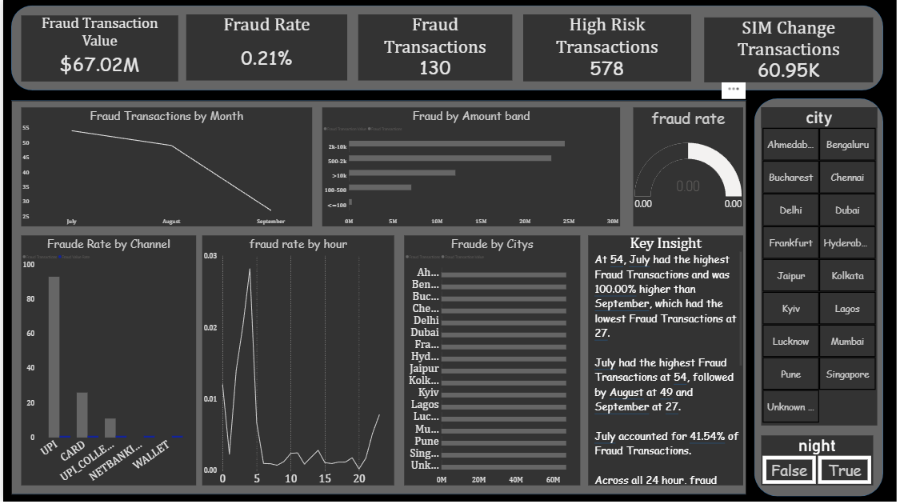

The dashboard page shown, as its layout file describes it:
{"tool":"powerbi","page":{"name":"Fraud & Risk Monitoring","canvas":[2800,1800],"ordinal":1},"visuals":[{"type":"shape","box":[30,26.7,2740,303.3],"z":0},{"type":"shape","box":[30.3,363.6,2245.5,1409.1],"z":1000},{"type":"lineChart","fields":{"Category":["digital_payments_analytics payment_transactions.date.Variation.Date Hierarchy.Month"],"Y":["digital_payments_analytics payment_transactions.Fraud Transactions"]},"box":[64,388,688,552],"z":2000},{"type":"shape","box":[2310,363.3,460,1423.3],"z":3000},{"type":"card","title":"Fraud Transaction Value","fields":{"Values":["digital_payments_analytics payment_transactions.Fraud Transaction Value"]},"box":[65.8,60.5,494.7,236.8],"z":4000},{"type":"card","title":"SIM Change Transactions","fields":{"Values":["CountNonNull(digital_payments_analytics payment_transactions.sim_change_2h)"]},"box":[2250,63.3,466.7,233.3],"z":9000},{"type":"card","title":"Fraud  Rate","fields":{"Values":["digital_payments_analytics payment_transactions.fraud rate"]},"box":[586.7,63.3,516.7,236.7],"z":10000},{"type":"card","title":"High Risk Transactions","fields":{"Values":["digital_payments_analytics payment_transactions.High Value Transactions"]},"box":[1693.3,60,510,240],"z":11000},{"type":"lineChart","fields":{"Category":["digital_payments_analytics payment_transactions.hour"],"Y":["digital_payments_analytics payment_transactions.fraud rate"]},"box":[1568,848,684,892],"z":12000},{"type":"clusteredColumnChart","title":"Fraude Rate by Channel","fields":{"Category":["digital_payments_analytics payment_transactions.channel"],"Y":["digital_payments_analytics payment_transactions.Fraud Transactions","digital_payments_analytics payment_transactions.Fraud Value Rate"]},"box":[64,972,688,768],"z":13000},{"type":"gauge","fields":{"Y":["digital_payments_analytics payment_transactions.fraud rate"]},"box":[1828,388,424,428],"z":14000},{"type":"clusteredBarChart","title":"Fraude by Citys","fields":{"Category":["Q16_Customer_City_Spend.city"],"Y":["digital_payments_analytics payment_transactions.Fraud Transactions","digital_payments_analytics payment_transactions.Fraud Transaction Value"]},"box":[772,848,760,892],"z":15000},{"type":"clusteredBarChart","title":"Fraud by Amount band","fields":{"Category":["digital_payments_analytics payment_transactions.amount_band"],"Y":["digital_payments_analytics payment_transactions.Fraud Transaction Value","digital_payments_analytics payment_transactions.Fraud Transactions"]},"box":[772,388,1012,428],"z":16000},{"type":"card","title":"Fraud Transactions","fields":{"Values":["digital_payments_analytics payment_transactions.Fraud Transactions"]},"box":[1139.5,63.2,515.8,236.8],"z":17000},{"type":"advancedSlicerVisual","fields":{"Values":["Q16_Customer_City_Spend.city"]},"box":[2332,388,416,1136],"z":18000},{"type":"advancedSlicerVisual","title":"night","fields":{"Values":["digital_payments_analytics payment_transactions.is_night"]},"box":[2348,1560,400,180],"z":19000}]}

Visuals, with their boxes on the page's 2800x1800 design canvas (x1, y1, x2, y2). These are canvas units, not pixel positions in the 897x502 screenshot, which may show the page scaled, cropped or inside an application window:
shape: <box>30,27,2770,330</box>
shape: <box>30,364,2276,1773</box>
lineChart - digital_payments_analytics payment_transactions.date.Variation.Date Hierarchy.Month x digital_payments_analytics payment_transactions.Fraud Transactions: <box>64,388,752,940</box>
shape: <box>2310,363,2770,1787</box>
"Fraud Transaction Value" card: <box>66,60,560,297</box>
"SIM Change Transactions" card: <box>2250,63,2717,297</box>
"Fraud  Rate" card: <box>587,63,1103,300</box>
"High Risk Transactions" card: <box>1693,60,2203,300</box>
lineChart - digital_payments_analytics payment_transactions.hour x digital_payments_analytics payment_transactions.fraud rate: <box>1568,848,2252,1740</box>
"Fraude Rate by Channel" clusteredColumnChart: <box>64,972,752,1740</box>
gauge - digital_payments_analytics payment_transactions.fraud rate: <box>1828,388,2252,816</box>
"Fraude by Citys" clusteredBarChart: <box>772,848,1532,1740</box>
"Fraud by Amount band" clusteredBarChart: <box>772,388,1784,816</box>
"Fraud Transactions" card: <box>1140,63,1655,300</box>
advancedSlicerVisual - Q16_Customer_City_Spend.city: <box>2332,388,2748,1524</box>
"night" advancedSlicerVisual: <box>2348,1560,2748,1740</box>
